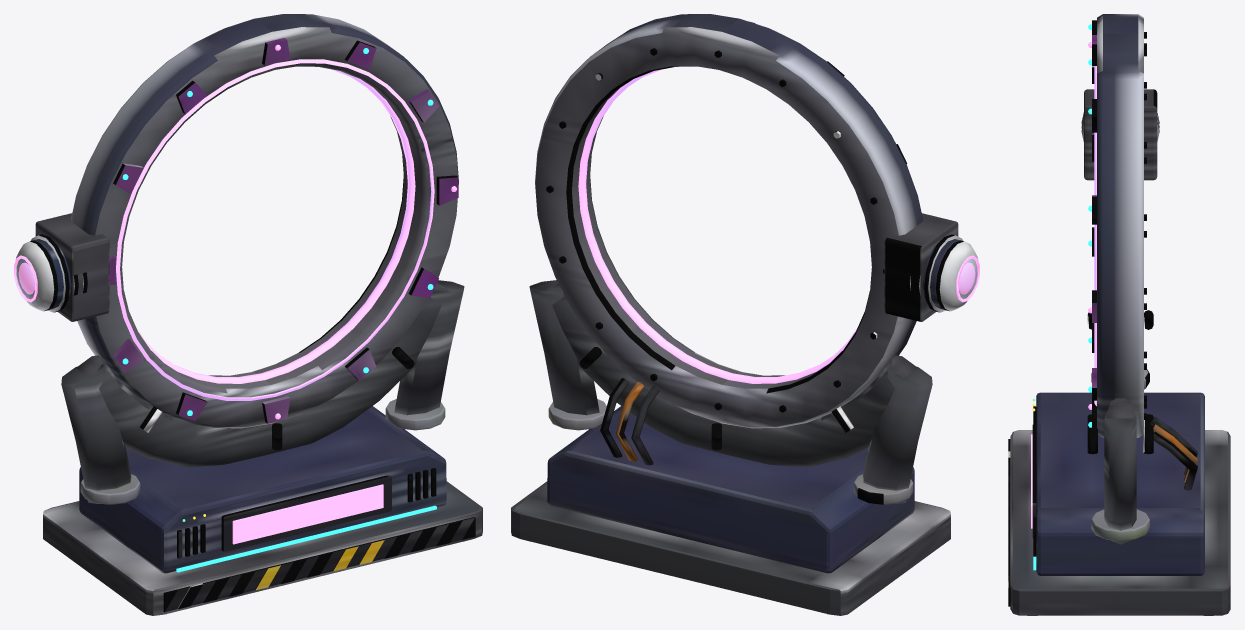
File: light_ring.glb
3 views of the same model, side by side, from view 1: azimuth 30°, elevation 25°; view 2: azimuth 150°, elevation 25°; view 3: azimuth 270°, elevation 25° (orthographic).
Visible parts, largest first — view 1: body, glow, detail_ring; view 2: body, glow; view 3: body, detail_ring, glow.
Part boxes in pixels (x1,y1,x2,y2): body: (14, 14, 482, 615); glow: (116, 59, 434, 400); detail_ring: (109, 38, 458, 423); body: (511, 14, 979, 615); glow: (578, 69, 857, 383); body: (1008, 14, 1230, 615); detail_ring: (1088, 20, 1096, 427); glow: (1094, 66, 1096, 406).
Size of the model in its own units: 3.42 by 3.8 by 1.51.
Materials: 8 (1 with a texture image).
